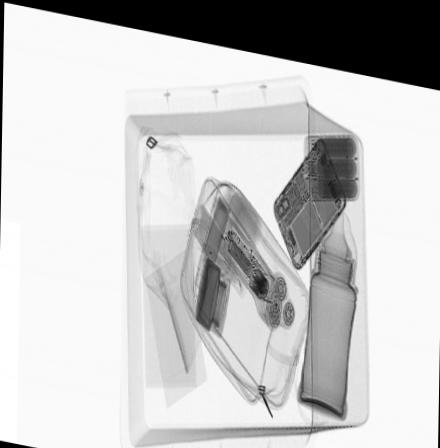Powerbank: (301, 119, 361, 190)
